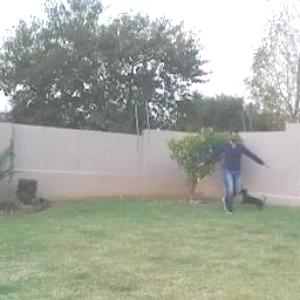land: (176, 116, 253, 220)
